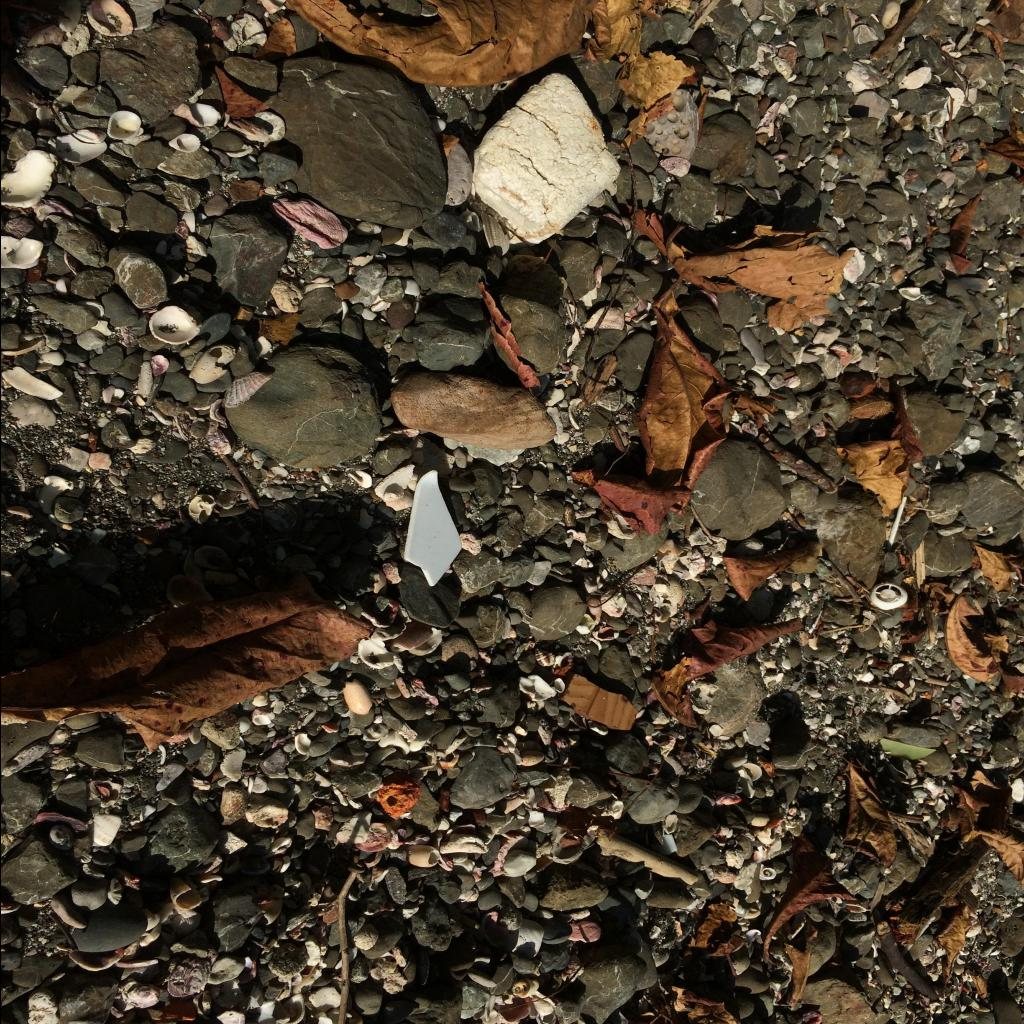Other plastic wrapper: (403, 470, 461, 586), (885, 497, 906, 552), (868, 582, 906, 610)
Styrofoam piece: (468, 72, 620, 246)
